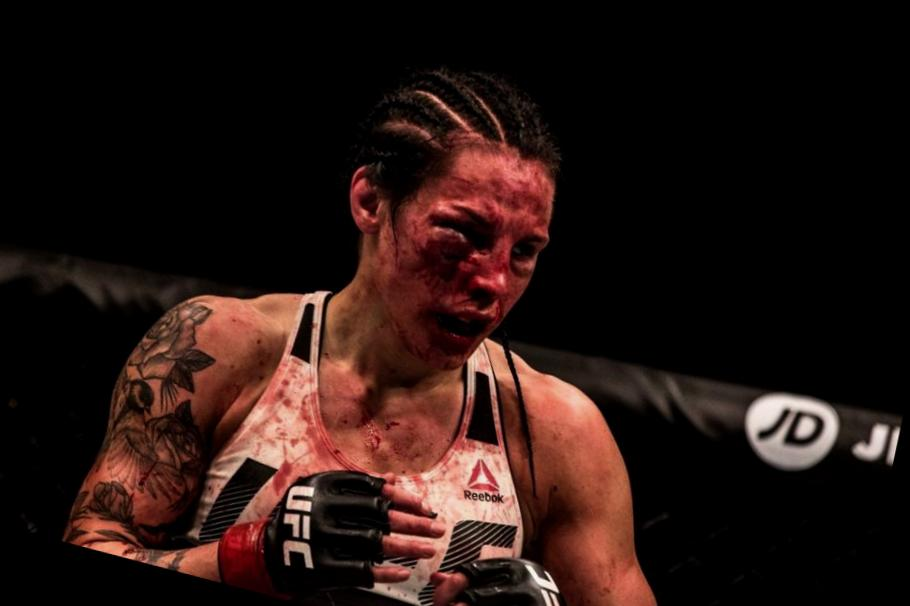Fire: (321, 136, 556, 469), (186, 287, 368, 542), (401, 339, 524, 561), (99, 530, 178, 565)
